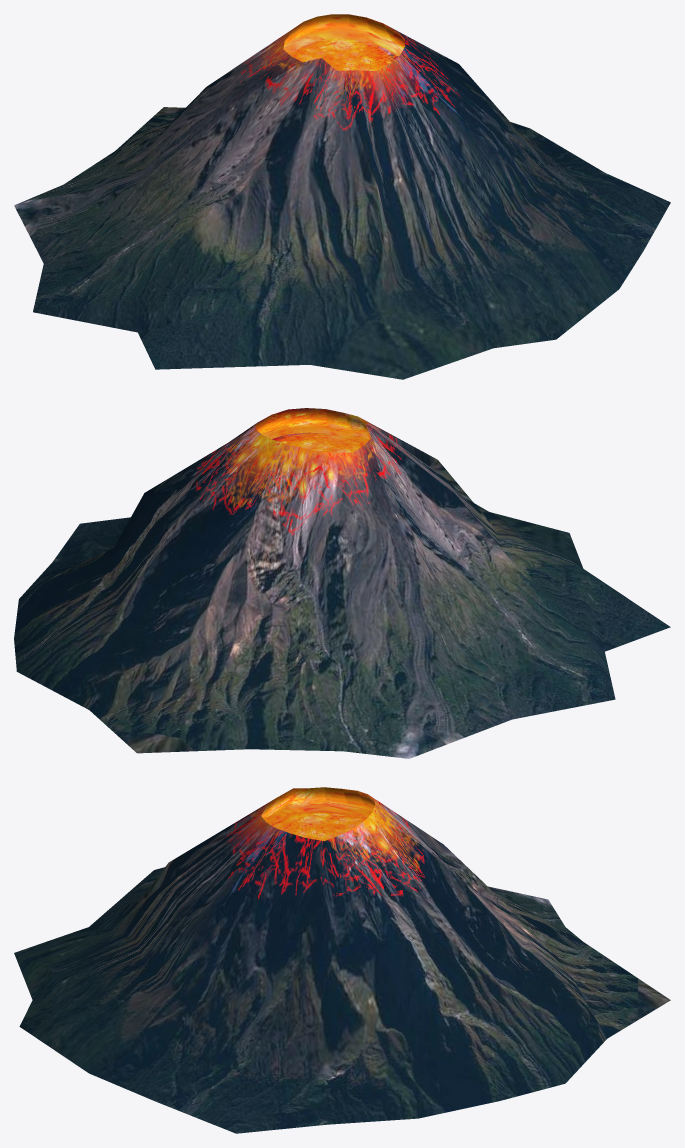
The model's file is volcan.obj.
3 renders of one model, top to bottom at view 1: azimuth 30°, elevation 25°; view 2: azimuth 150°, elevation 25°; view 3: azimuth 270°, elevation 25°, orthographic. The views are drawn at different scales.
Visible parts, largest first — view 1: volcan:pCone1; view 2: volcan:pCone1; view 3: volcan:pCone1.
Boxes of the visible parts, bbox=[...] form: volcan:pCone1: bbox=[14, 14, 670, 379]; volcan:pCone1: bbox=[14, 408, 670, 758]; volcan:pCone1: bbox=[14, 787, 670, 1133].
Size of the model in its own units: 897 by 293 by 892.
Materials: 1 (1 with a texture image).
